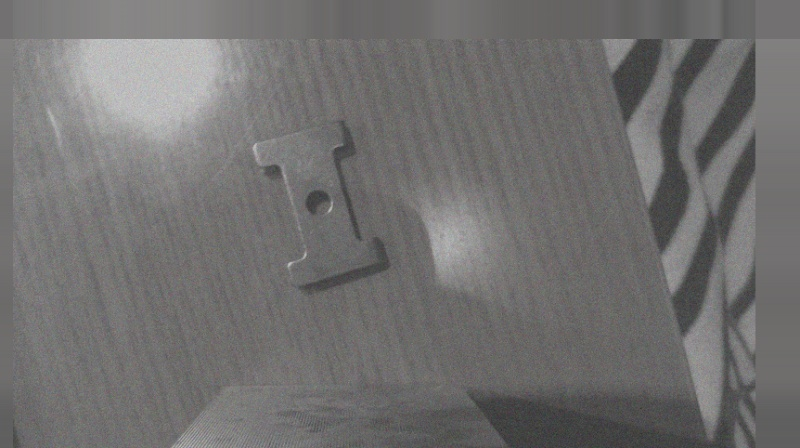O002: (250, 118, 389, 290)
